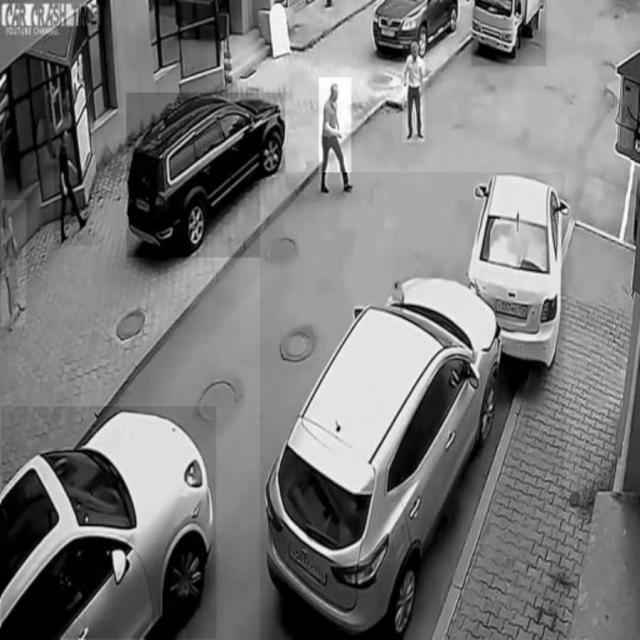accident: (260, 173, 564, 640)
person: (54, 127, 91, 245), (320, 77, 352, 199), (1, 200, 26, 326), (402, 39, 426, 142)
vehicle: (2, 407, 217, 639), (126, 93, 284, 258), (371, 1, 461, 57), (471, 1, 545, 67)
